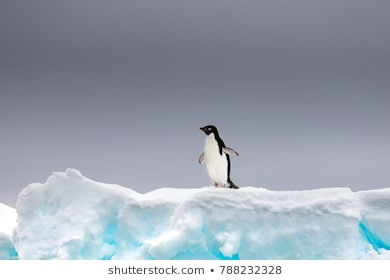penguin: (190, 120, 245, 195)
